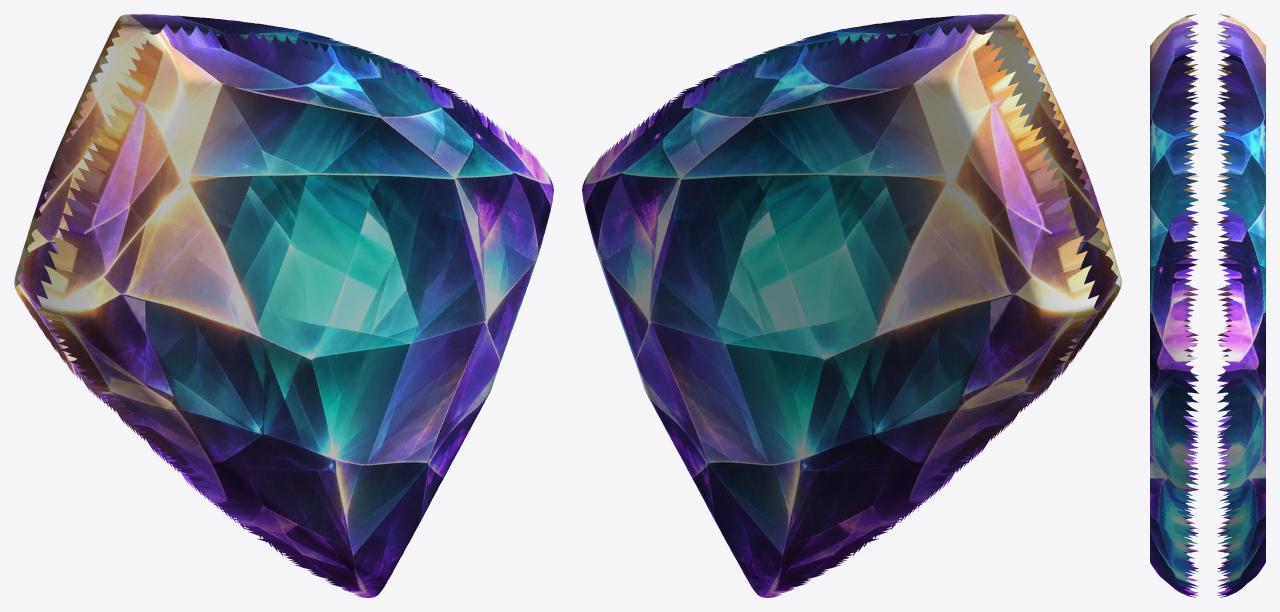
File: v4-item-any-treasure.glb
3 views of the same model, side by side, from view 1: azimuth 30°, elevation 25°; view 2: azimuth 150°, elevation 25°; view 3: azimuth 270°, elevation 25° (orthographic). The views are drawn at different scales.
Parts seen in each view (by area): view 1: v4-item-any-treasure; view 2: v4-item-any-treasure; view 3: v4-item-any-treasure.
Part boxes in pixels (x1=…): v4-item-any-treasure: x1=14, y1=14, x2=553, y2=597; v4-item-any-treasure: x1=582, y1=14, x2=1121, y2=597; v4-item-any-treasure: x1=1150, y1=14, x2=1265, y2=597.
Bounding box in the file's own units: 0.856 × 0.9857 × 0.2089.
Materials: 1 (1 with a texture image).
